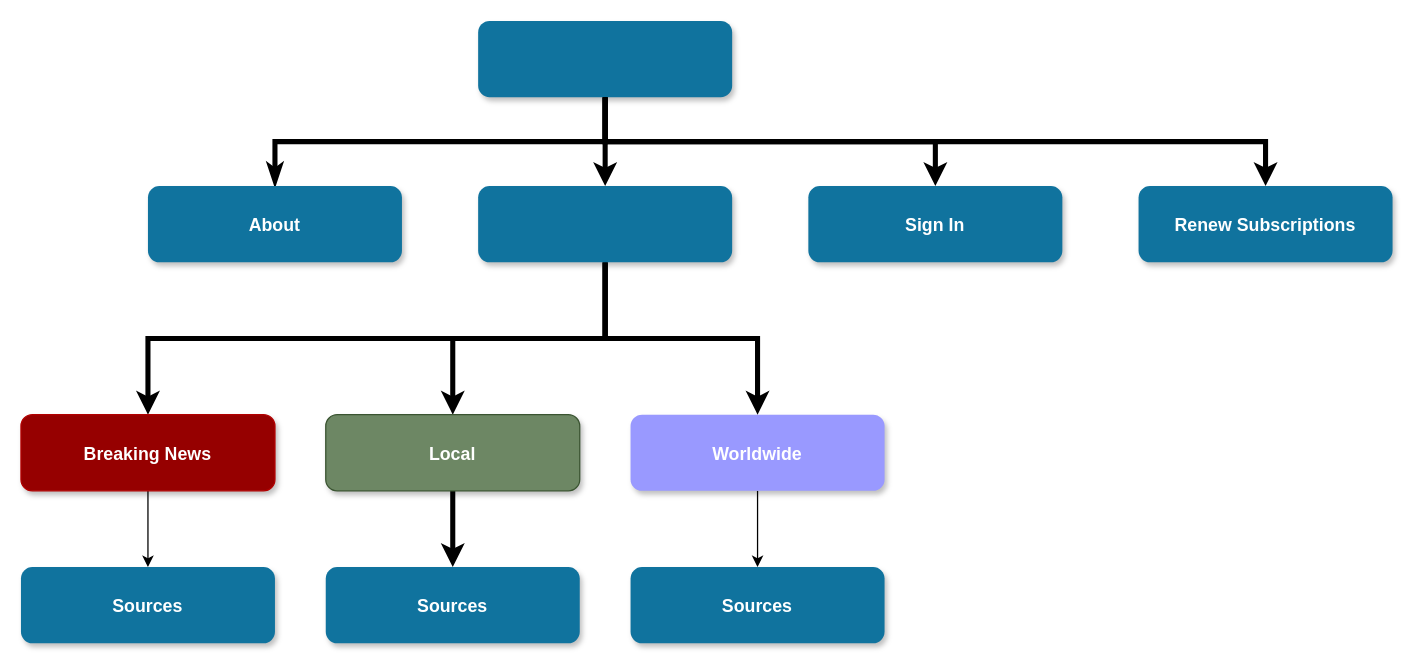
Some shapes in this 1414 by 664 pixel diagram are drawn without their labels. Here are the shapes that lost their labels. From the top down, the centre of each, then its label:
At (605,60): "Home".
At (605,225): "Headlines".
